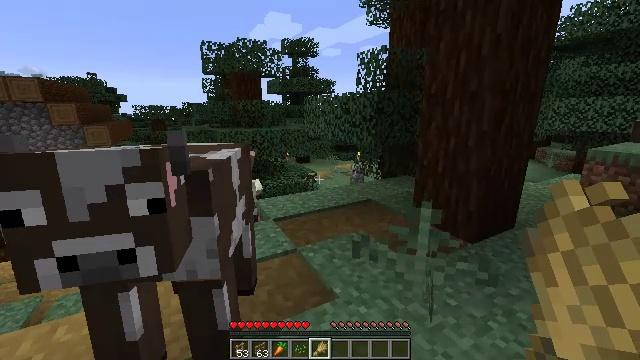cow: (4, 143, 253, 360)
